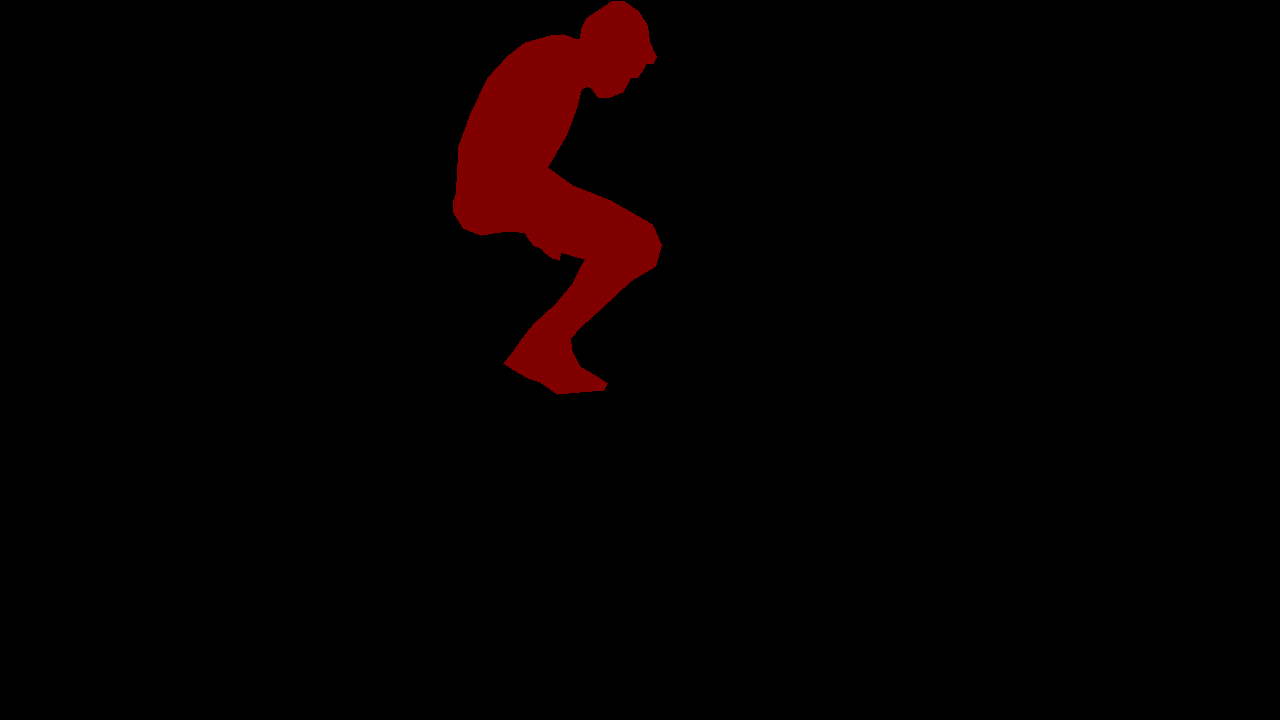person: (453, 1, 661, 394)
